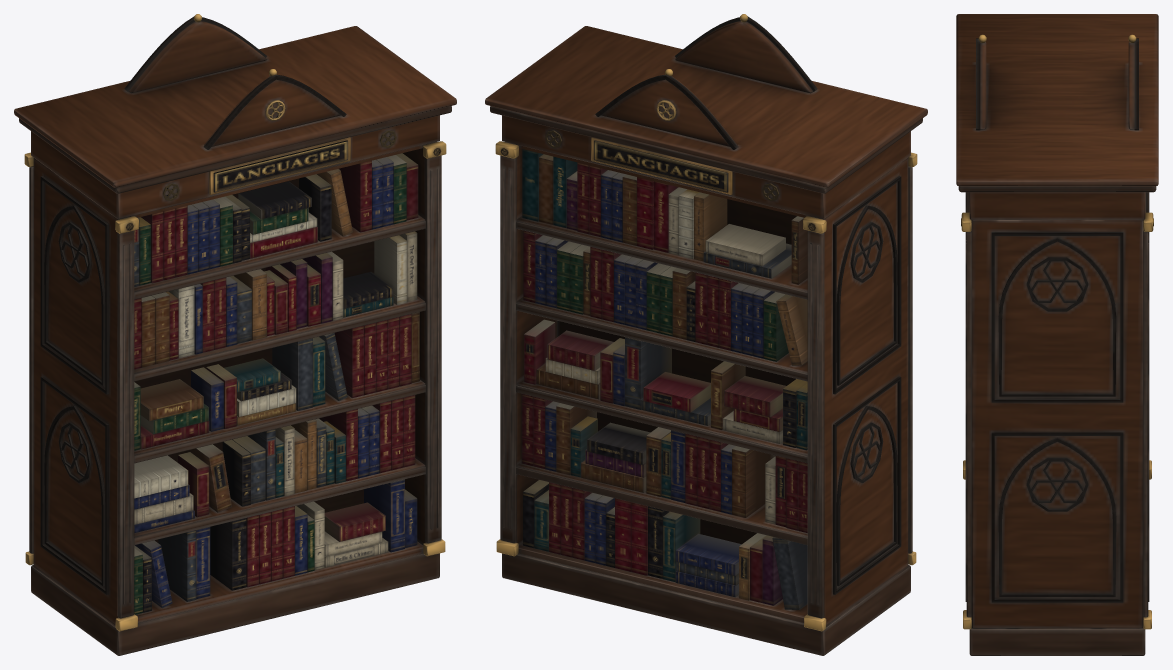
Rendered from LibShelfDouble.fbx.
3 views of the same model, side by side, from view 1: azimuth 30°, elevation 25°; view 2: azimuth 150°, elevation 25°; view 3: azimuth 270°, elevation 25° (orthographic).
Visible parts, largest first — view 1: LibShelfDouble; view 2: LibShelfDouble; view 3: LibShelfDouble.
Boxes of the visible parts, <box> form: LibShelfDouble: <box>14,14,456,655</box>; LibShelfDouble: <box>485,14,927,655</box>; LibShelfDouble: <box>956,14,1158,655</box>.
Size of the model in its own units: 646 by 977 by 330.
